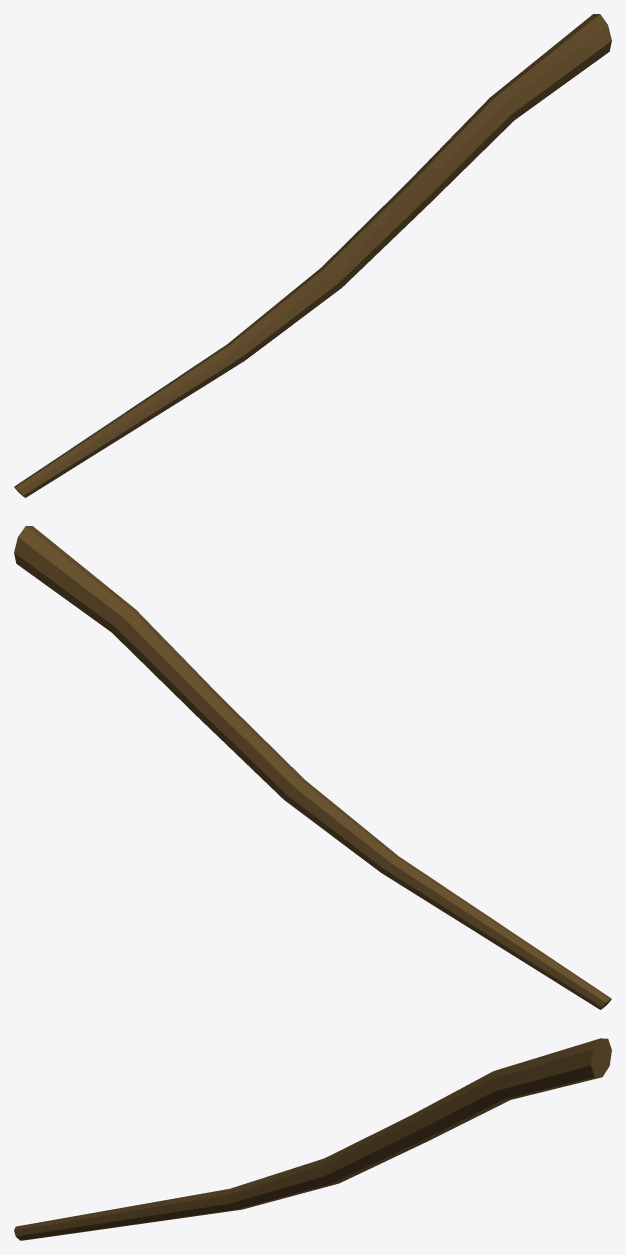
File: Branch02.fbx
3 views of the same model, one above another, from view 1: azimuth 30°, elevation 25°; view 2: azimuth 150°, elevation 25°; view 3: azimuth 330°, elevation 25° (orthographic).
Visible parts, largest first — view 1: Branch02; view 2: Branch02; view 3: Branch02.
Part boxes in pixels (box(x1,y1,x2,y2)): Branch02: box(14, 14, 611, 497); Branch02: box(14, 526, 611, 1009); Branch02: box(14, 1038, 611, 1240).
Bounding box in the file's own units: 49.09 × 27.39 × 3.06.
